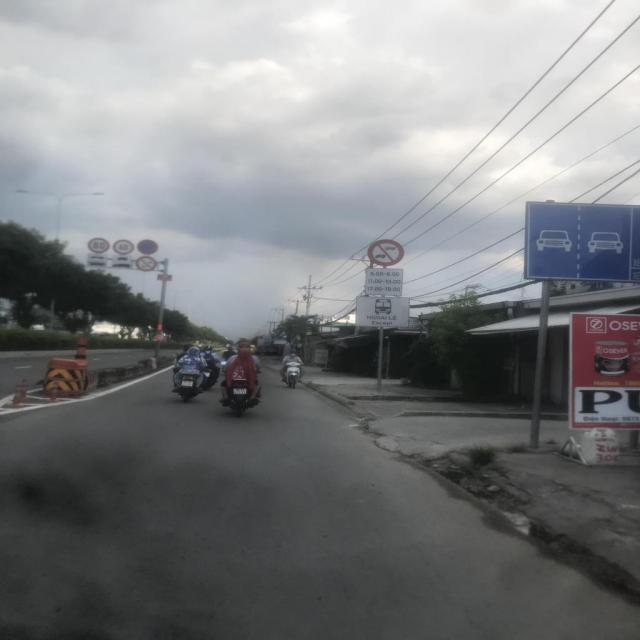cam_dung_xe_va_do_xe: (136, 239, 158, 255)
cam_o_to_tai_va_xe_khach: (368, 239, 406, 266)
cam_xe_2_banh_va_xe_3_banh_co_dong_co: (136, 256, 158, 272)
khac: (356, 296, 410, 327), (366, 268, 403, 296), (86, 260, 107, 269), (88, 253, 108, 261), (112, 260, 132, 268), (112, 255, 132, 262)
lan_duong_cho_tung_xe_theo_vach_ke_duong: (524, 202, 639, 282)
toc_do_toi_da_60: (113, 238, 135, 256)
toc_do_toi_da_80: (88, 238, 110, 254)
